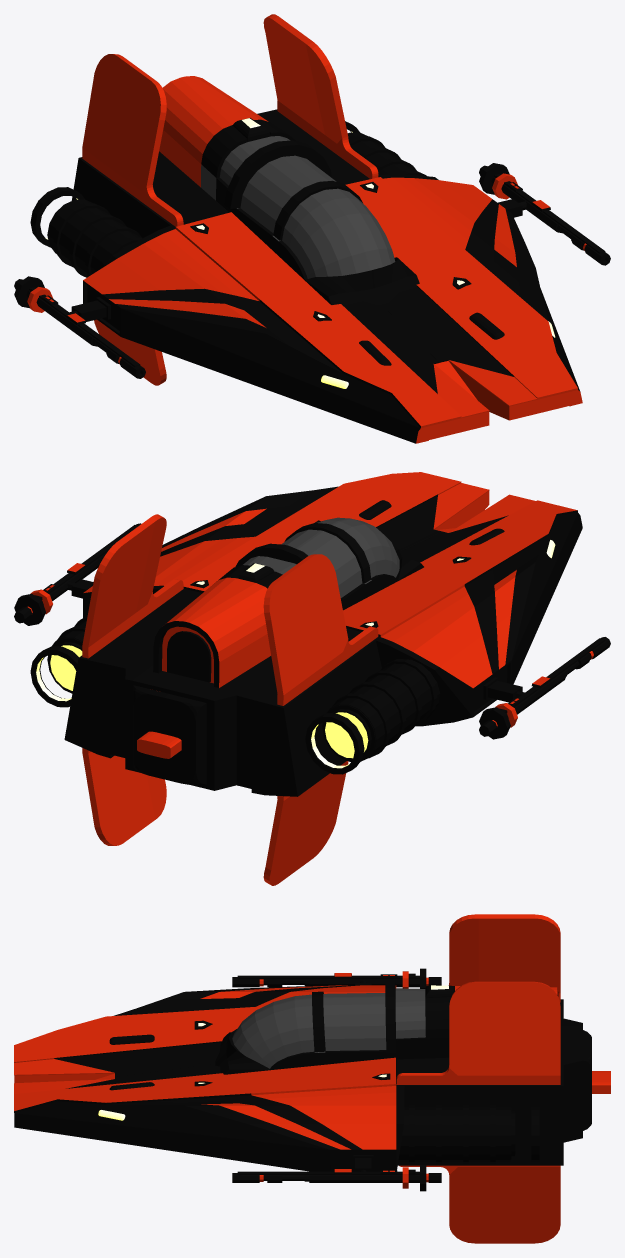
Rendered from statek.glb.
3 renders of one model, top to bottom at view 1: azimuth 30°, elevation 25°; view 2: azimuth 150°, elevation 25°; view 3: azimuth 270°, elevation 25°, orthographic. The views are drawn at different scales.
Parts seen in each view (by area): view 1: Ship, Cockpit, Guns; view 2: Ship, Cockpit, Guns; view 3: Ship, Cockpit, Guns.
Part boxes in pixels (box(x1,y1,x2,y2)): Ship: box(30, 14, 582, 443); Cockpit: box(159, 76, 419, 305); Guns: box(14, 163, 610, 378); Ship: box(30, 472, 582, 885); Cockpit: box(153, 517, 423, 687); Guns: box(14, 523, 610, 739); Ship: box(14, 914, 610, 1243); Cockpit: box(215, 982, 558, 1074); Guns: box(232, 968, 441, 1191).
Size of the model in its own units: 5.32 by 3.12 by 6.46.
4 materials, 1 textured.
